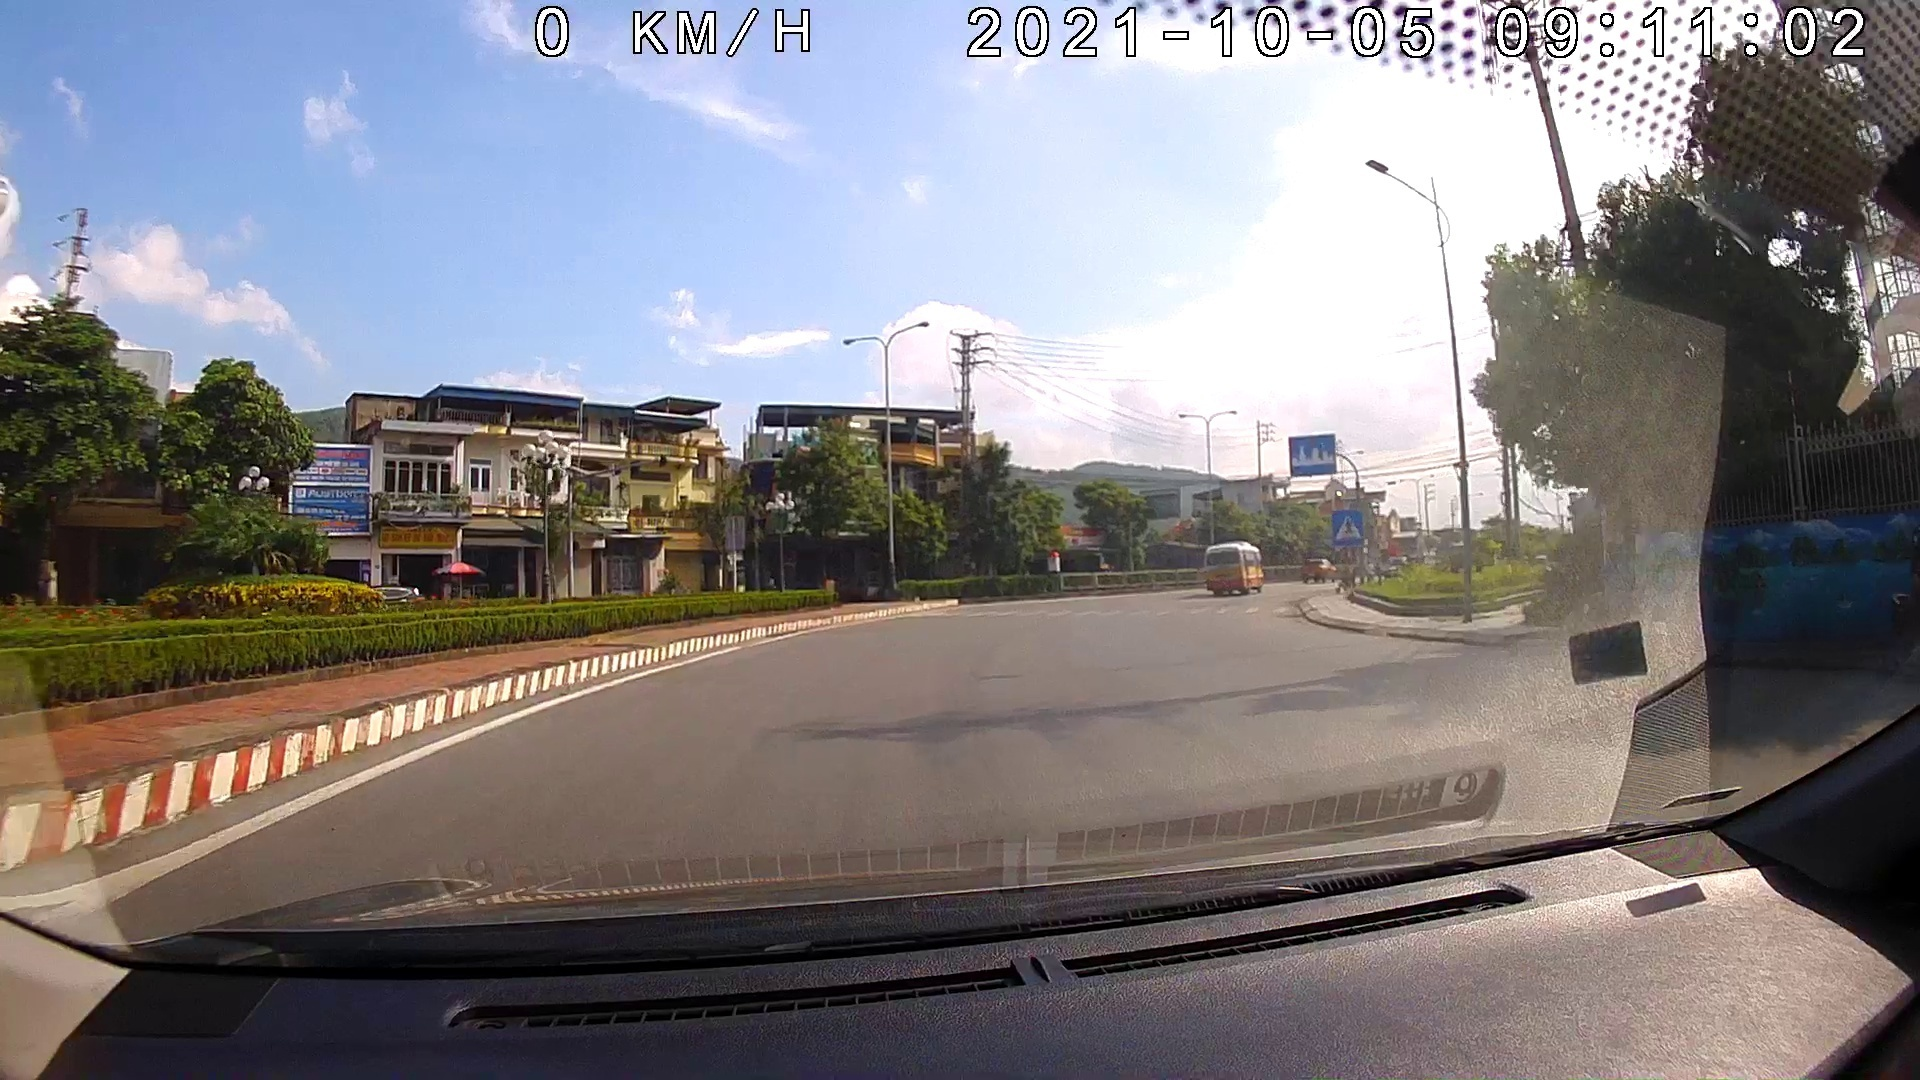Bien khac: (1288, 433, 1338, 473)
Nguoi di bo: (1327, 510, 1367, 545)
